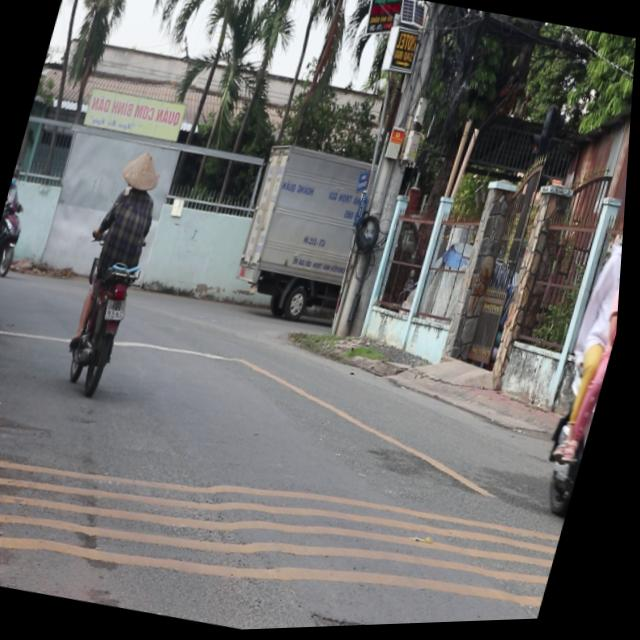licenseplate: (57, 142, 178, 397)
motorcyclist: (121, 145, 168, 198)
nohelmet: (107, 297, 131, 321)
